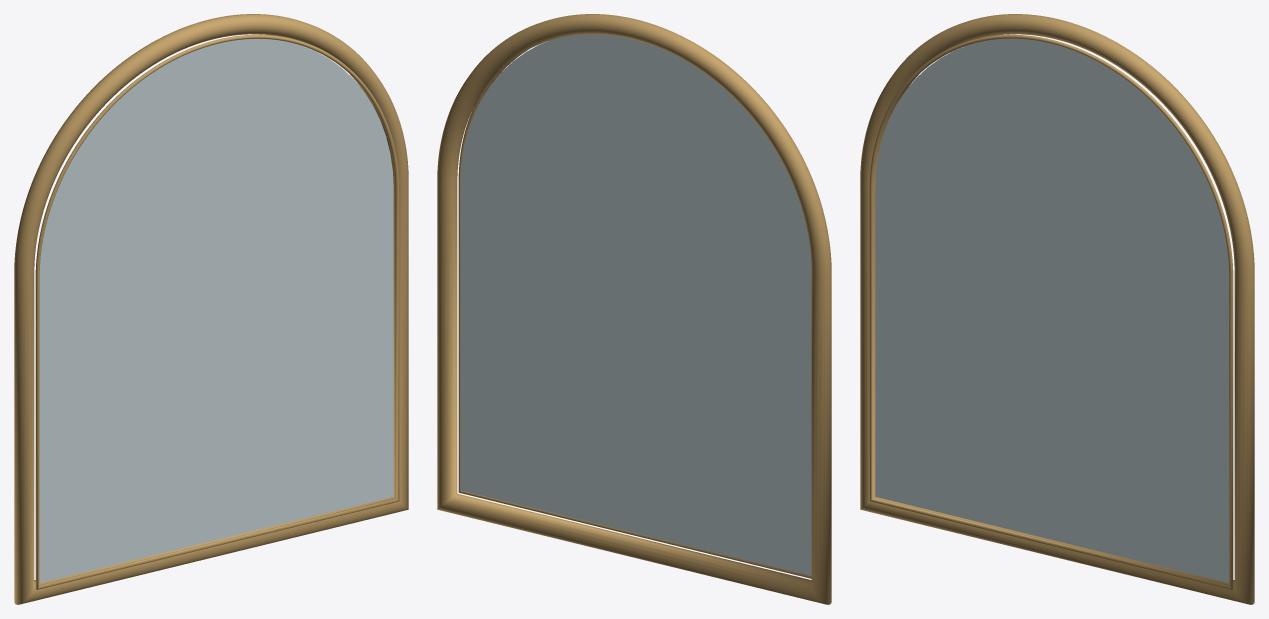
The model's file is designed-mirror-arch.glb.
3 views of the same model, side by side, from view 1: azimuth 30°, elevation 25°; view 2: azimuth 150°, elevation 25°; view 3: azimuth 330°, elevation 25° (orthographic).
Parts seen in each view (by area): view 1: catalog_surface_UVMap, catalog_surface_RealismUV; view 2: catalog_surface_UVMap, catalog_surface_RealismUV; view 3: catalog_surface_UVMap, catalog_surface_RealismUV.
Part boxes in pixels (x1,y1,x2,y2): catalog_surface_UVMap: [39, 38, 393, 582]; catalog_surface_RealismUV: [14, 14, 408, 604]; catalog_surface_UVMap: [460, 34, 811, 575]; catalog_surface_RealismUV: [437, 14, 831, 604]; catalog_surface_UVMap: [875, 38, 1229, 582]; catalog_surface_RealismUV: [860, 14, 1254, 604].
Bounding box in the file's own units: 0.65 × 0.85 × 0.035.
